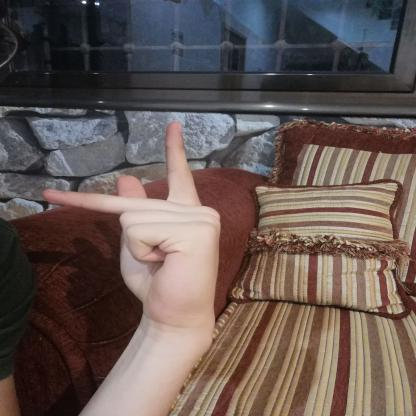DHAA: (29, 113, 230, 335)
